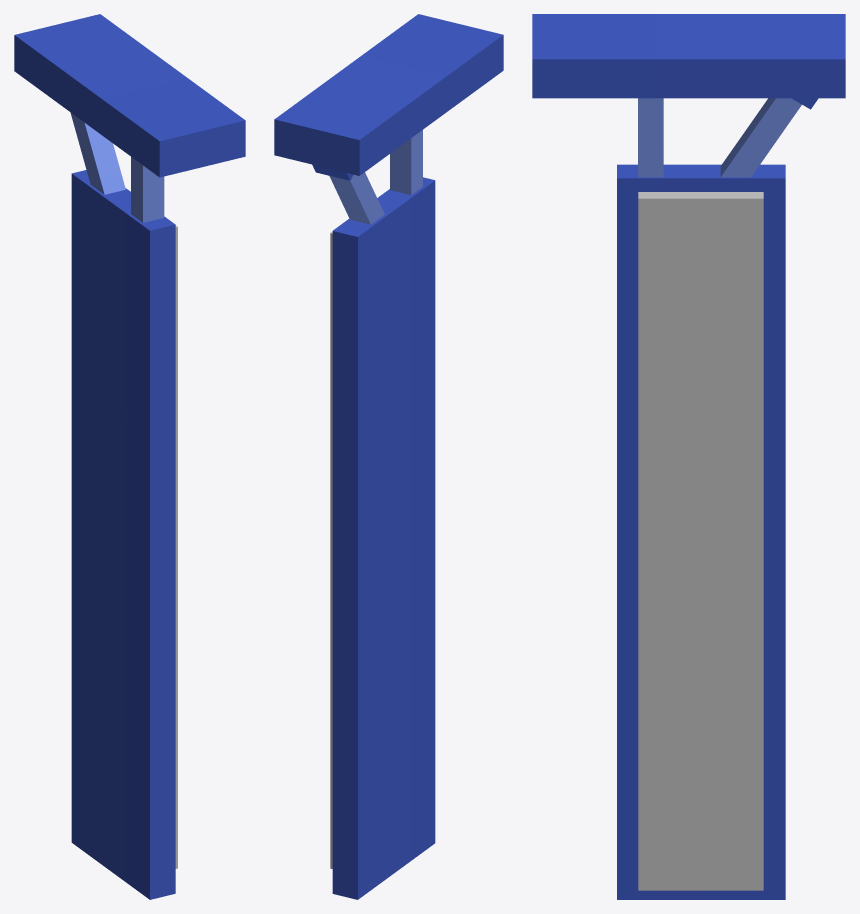
File: SignProp_1_B_6.fbx
3 views of the same model, side by side, from view 1: azimuth 30°, elevation 25°; view 2: azimuth 150°, elevation 25°; view 3: azimuth 270°, elevation 25° (orthographic). The views are drawn at different scales.
Visible parts, largest first — view 1: SignProp_1_B_6; view 2: SignProp_1_B_6; view 3: SignProp_1_B_6.
Boxes of the visible parts, x1,y1,x2,y2 form: SignProp_1_B_6: (14, 14, 245, 899); SignProp_1_B_6: (274, 14, 503, 899); SignProp_1_B_6: (532, 14, 845, 899).
Size of the model in its own units: 20.79 by 184 by 60.95.
